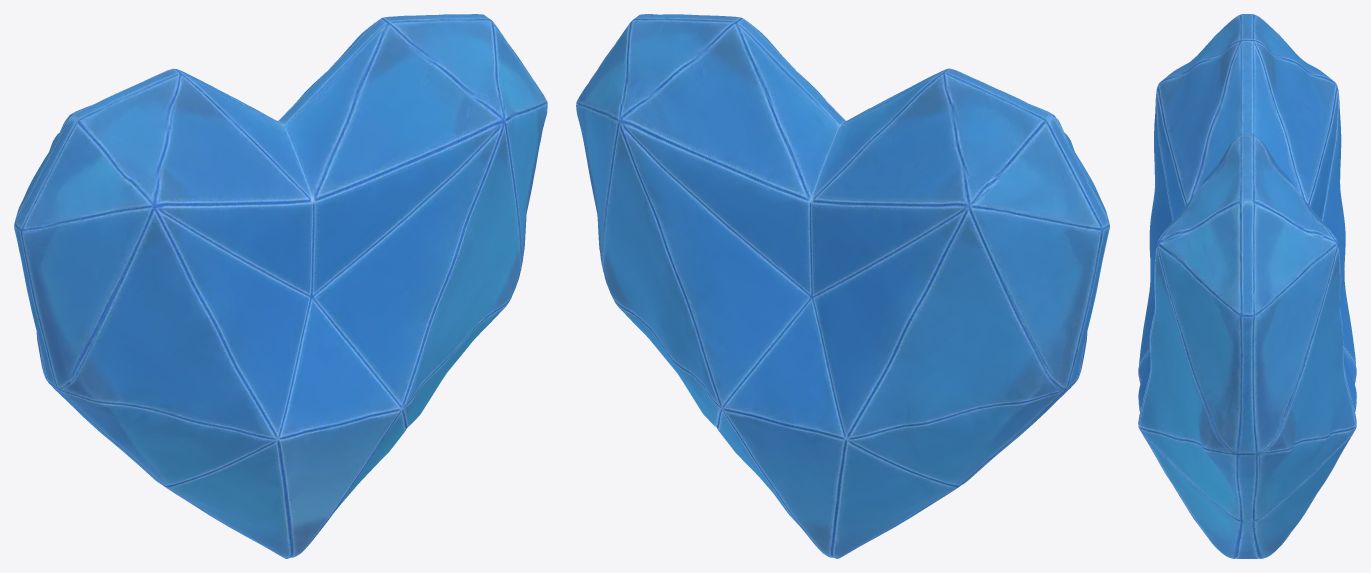
Rendered from medrebel-heart.glb.
The picture shows the model from 3 angles, left to right: view 1: azimuth 30°, elevation 25°; view 2: azimuth 150°, elevation 25°; view 3: azimuth 270°, elevation 25°; orthographic projection. The views are drawn at different scales.
Visible parts, largest first — view 1: Mesh_0; view 2: Mesh_0; view 3: Mesh_0.
Part boxes in pixels (x1,y1,x2,y2): Mesh_0: (14, 14, 547, 558); Mesh_0: (576, 14, 1109, 558); Mesh_0: (1138, 14, 1356, 558).
Bounding box in the file's own units: 1.91 × 1.76 × 0.7412.
Materials: 1 (1 with a texture image).
